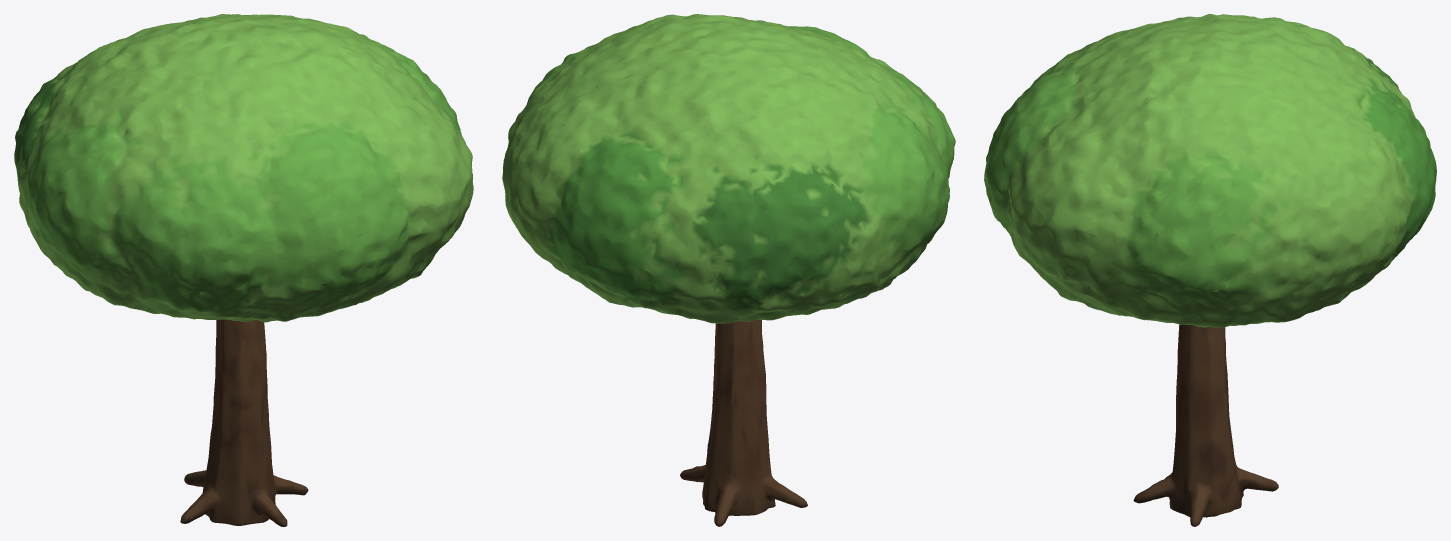
Rendered from broadleaf_mature_large_wide_dense.glb.
The picture shows the model from 3 angles, left to right: view 1: azimuth 30°, elevation 25°; view 2: azimuth 150°, elevation 25°; view 3: azimuth 270°, elevation 25°; orthographic projection.
Visible parts, largest first — view 1: broadleaf_mature_large_wide_dense_LOD0; view 2: broadleaf_mature_large_wide_dense_LOD0; view 3: broadleaf_mature_large_wide_dense_LOD0.
Boxes of the visible parts, x1,y1,x2,y2 form: broadleaf_mature_large_wide_dense_LOD0: (14, 14, 473, 526); broadleaf_mature_large_wide_dense_LOD0: (502, 14, 955, 526); broadleaf_mature_large_wide_dense_LOD0: (984, 14, 1436, 526).
Size of what is drawn, in the model's own units: 5.88 by 6.54 by 5.74.
